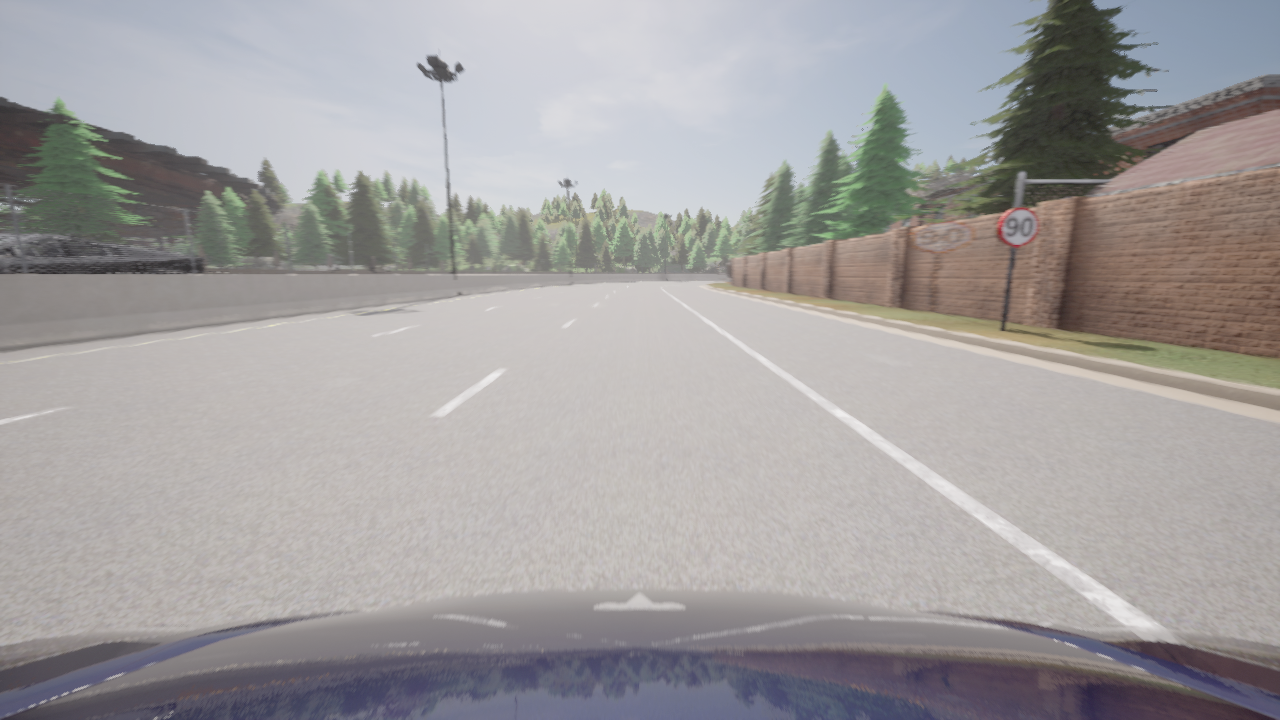cyclist: (0, 588, 1279, 719), (0, 233, 203, 274)
